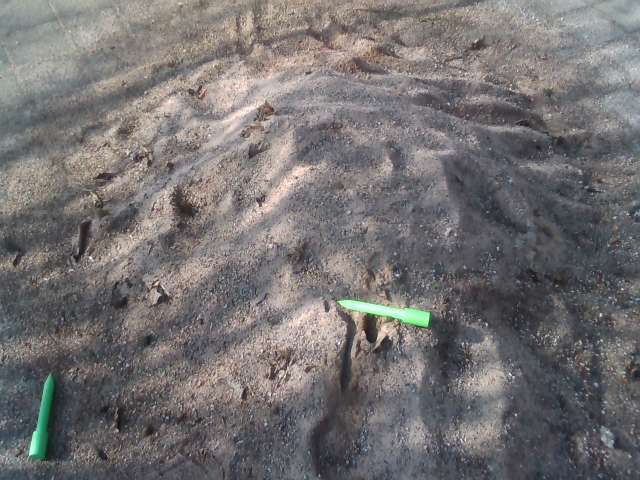Probe: (331, 292, 440, 337), (21, 362, 63, 471)
